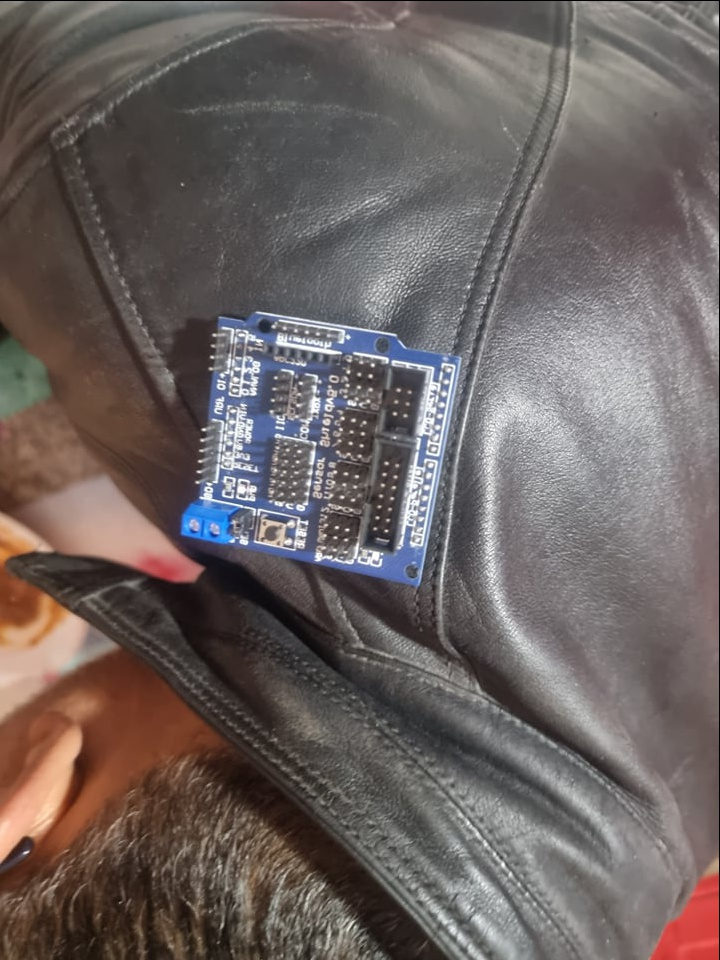5V EXPANSION: (179, 310, 466, 590)
